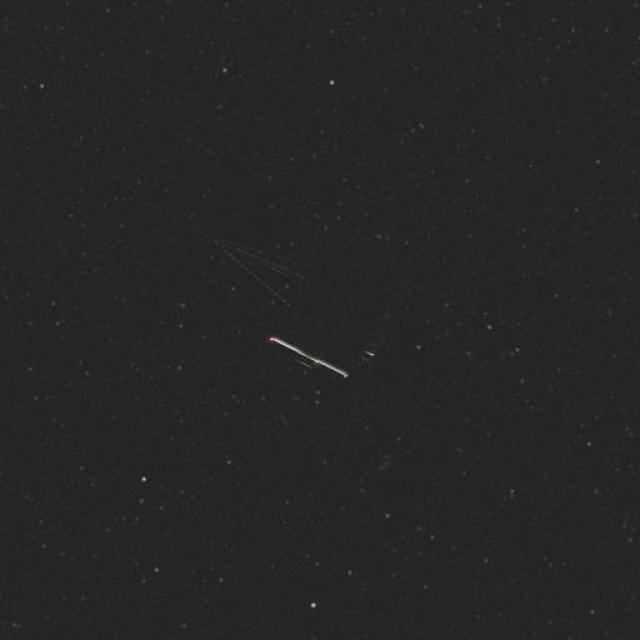double_start: (235, 277, 384, 402)
